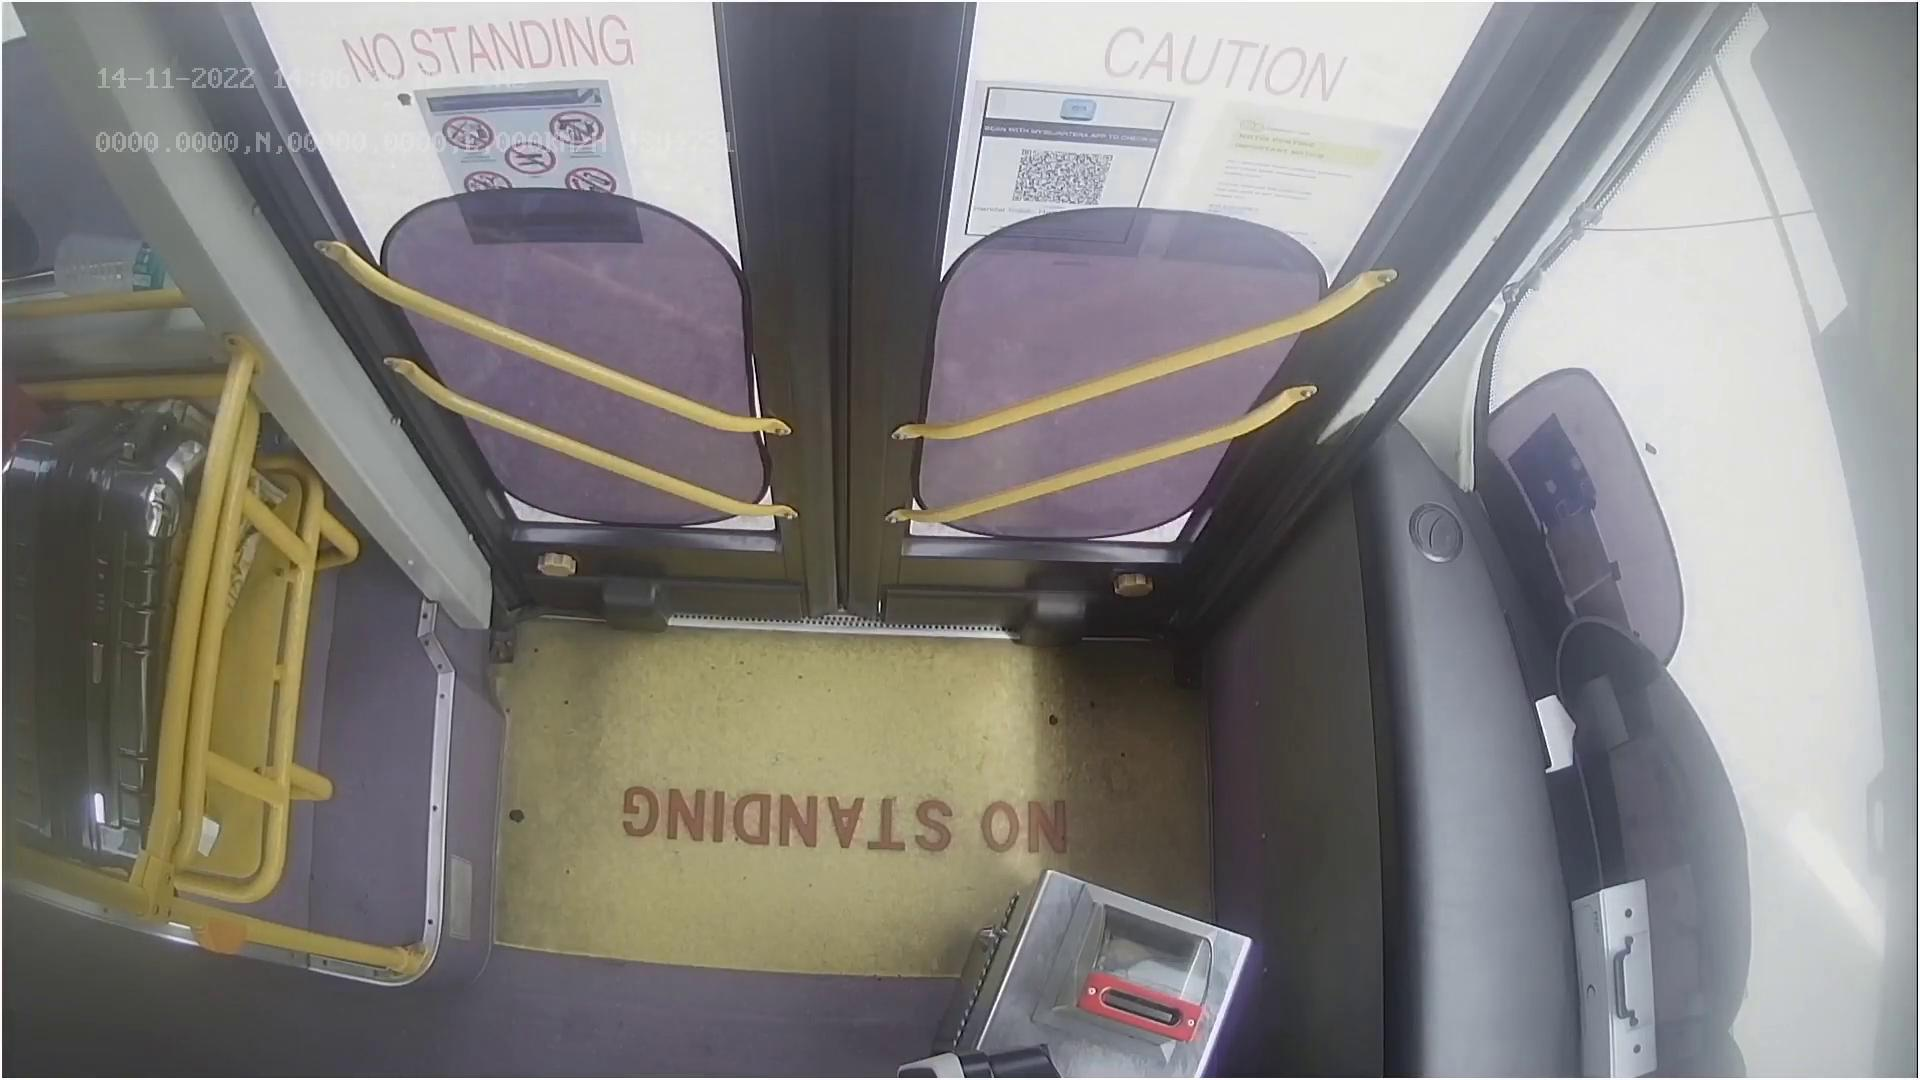close: (285, 0, 1435, 178)
